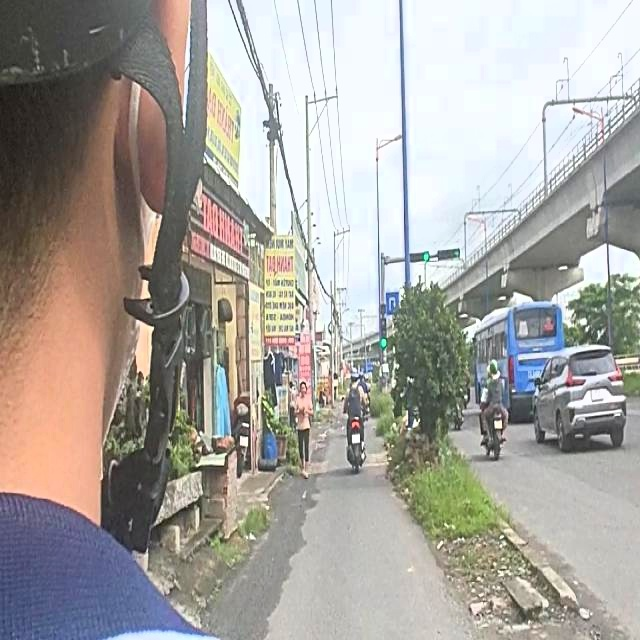I.409: (384, 289, 398, 317)
